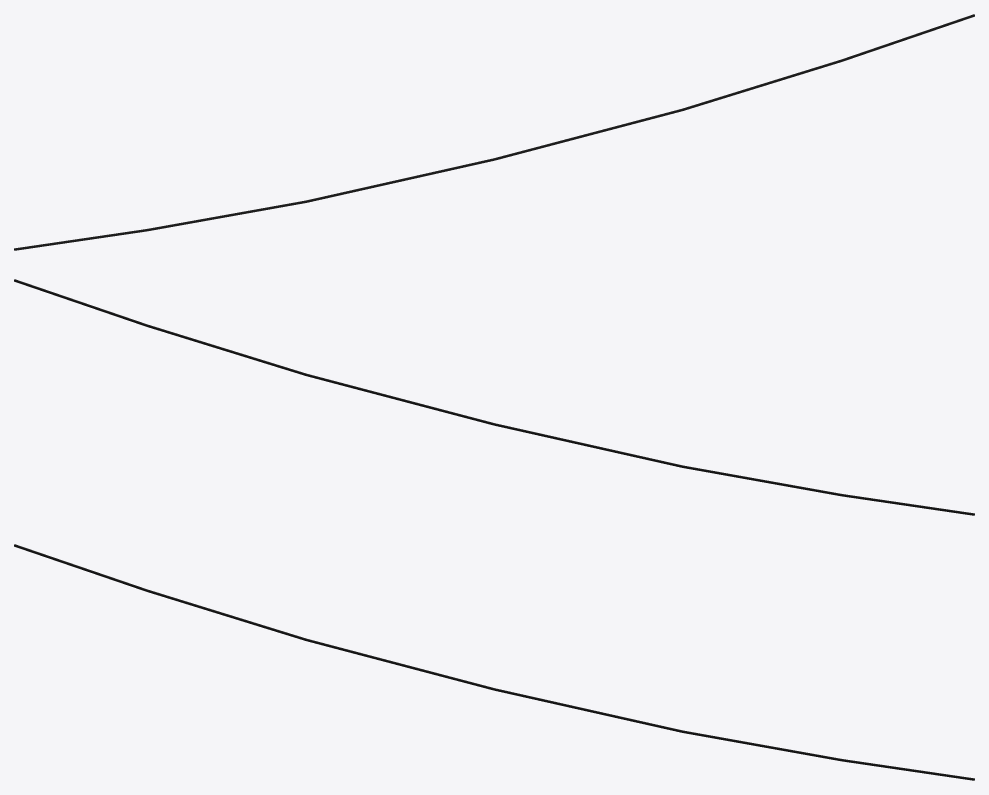
The model's file is SM_Props_Electric_03.fbx.
3 renders of one model, top to bottom at view 1: azimuth 30°, elevation 25°; view 2: azimuth 150°, elevation 25°; view 3: azimuth 330°, elevation 25°, orthographic.
Parts seen in each view (by area): view 1: SM_Props_Electric_03; view 2: SM_Props_Electric_03; view 3: SM_Props_Electric_03.
Part boxes in pixels (x1,y1,x2,y2): SM_Props_Electric_03: [14, 14, 974, 250]; SM_Props_Electric_03: [14, 279, 974, 515]; SM_Props_Electric_03: [14, 544, 974, 780].
Bounding box in the file's own units: 20 × 0.5699 × 0.0339.
